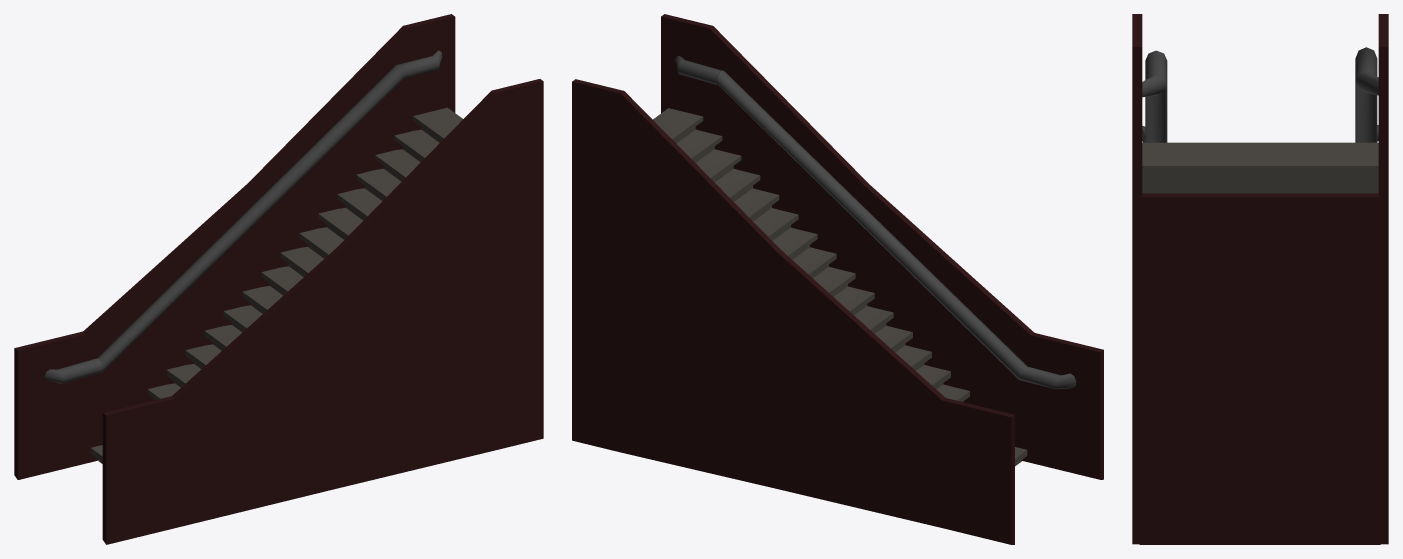
The model's file is insideStairs.fbx.
The picture shows the model from 3 angles, left to right: view 1: azimuth 30°, elevation 25°; view 2: azimuth 150°, elevation 25°; view 3: azimuth 270°, elevation 25°; orthographic projection. The views are drawn at different scales.
Visible parts, largest first — view 1: coverRight, coverLeft, Stairs, railingLeft; view 2: coverLeft, coverRight, Stairs, railingRight; view 3: coverBack, Stairs, coverLeft, coverRight, railingLeft, railingRight.
Part boxes in pixels (left/top/right/bottom): coverRight: left=102, top=79, right=543, bottom=544; coverLeft: left=14, top=14, right=455, bottom=479; Stairs: left=90, top=107, right=462, bottom=463; railingLeft: left=44, top=50, right=442, bottom=383; coverLeft: left=572, top=79, right=1014, bottom=544; coverRight: left=661, top=14, right=1103, bottom=479; Stairs: left=653, top=108, right=1027, bottom=466; railingRight: left=675, top=56, right=1076, bottom=389; coverBack: left=1139, top=193, right=1380, bottom=544; Stairs: left=1142, top=142, right=1378, bottom=193; coverLeft: left=1378, top=14, right=1388, bottom=544; coverRight: left=1132, top=14, right=1142, bottom=544; railingLeft: left=1355, top=47, right=1378, bottom=142; railingRight: left=1142, top=50, right=1167, bottom=142.
Bounding box in the file's own units: 12.81 × 10.01 × 4.67.
